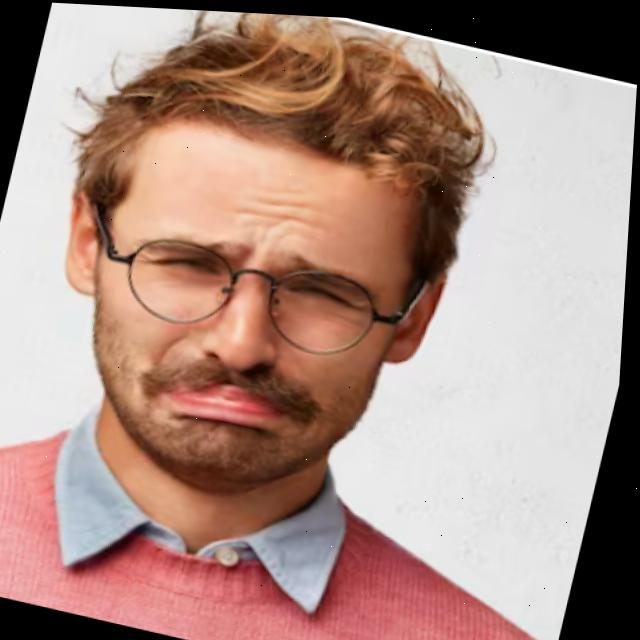sad: (13, 2, 551, 531)
